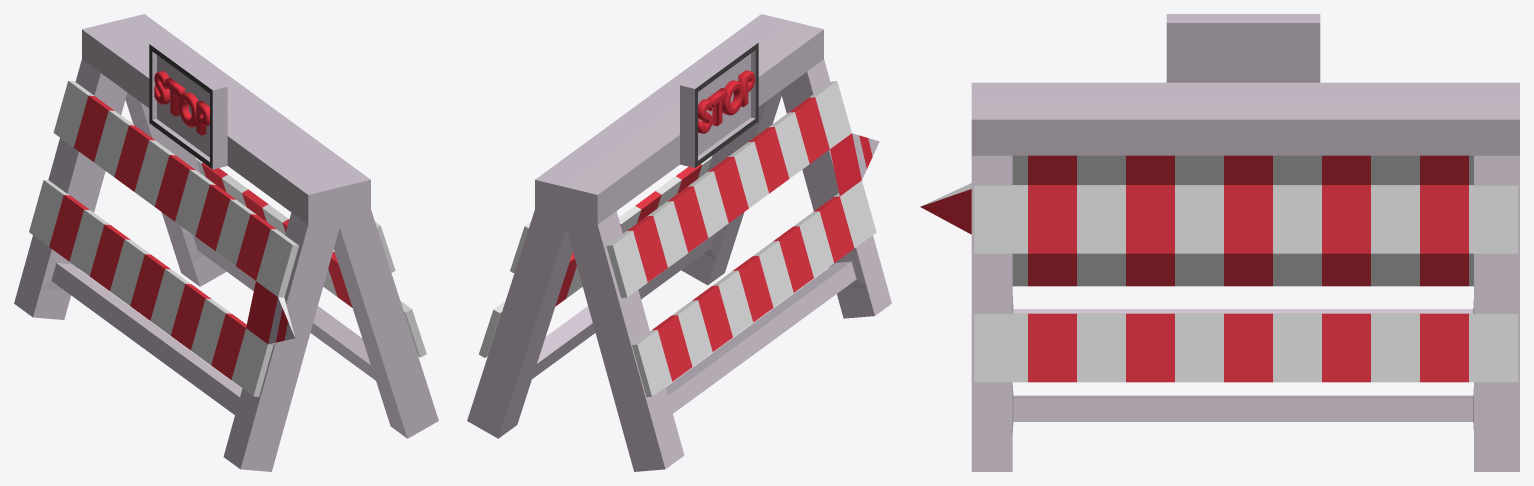
File: Engel 2.fbx
3 renders of one model, left to right at view 1: azimuth 30°, elevation 25°; view 2: azimuth 150°, elevation 25°; view 3: azimuth 270°, elevation 25°, orthographic. The views are drawn at different scales.
Visible parts, largest first — view 1: Text.003, Text.001, Text.004, Text.002, Text; view 2: Text.003, Text.001, Text.004, Text.002, Text; view 3: Text.002, Text.004, Text.001, Text.003.
Boxes of the visible parts, x1=… form: Text.003: x1=14, y1=21, x2=339, y2=471; Text.001: x1=29, y1=80, x2=298, y2=396; Text.004: x1=113, y1=14, x2=438, y2=438; Text.002: x1=195, y1=157, x2=426, y2=357; Text: x1=154, y1=71, x2=209, y2=135; Text.003: x1=566, y1=21, x2=891, y2=471; Text.001: x1=606, y1=81, x2=879, y2=397; Text.004: x1=467, y1=14, x2=792, y2=438; Text.002: x1=478, y1=155, x2=712, y2=357; Text: x1=698, y1=70, x2=755, y2=133; Text.002: x1=974, y1=185, x2=1518, y2=382; Text.004: x1=971, y1=101, x2=1519, y2=471; Text.001: x1=920, y1=155, x2=1473, y2=286; Text.003: x1=971, y1=14, x2=1519, y2=313.
Size of the model in its own units: 1.23 by 1.88 by 2.66.
